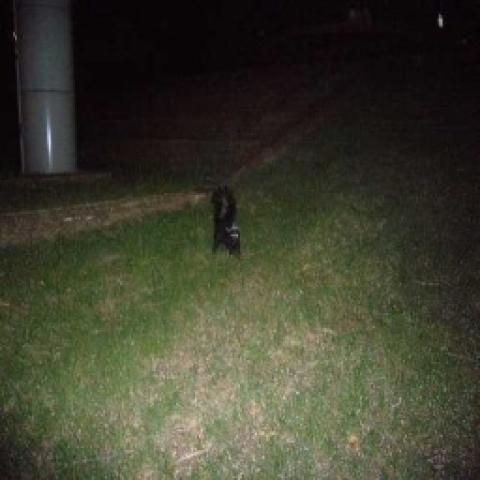small_animal: (206, 180, 244, 257)
